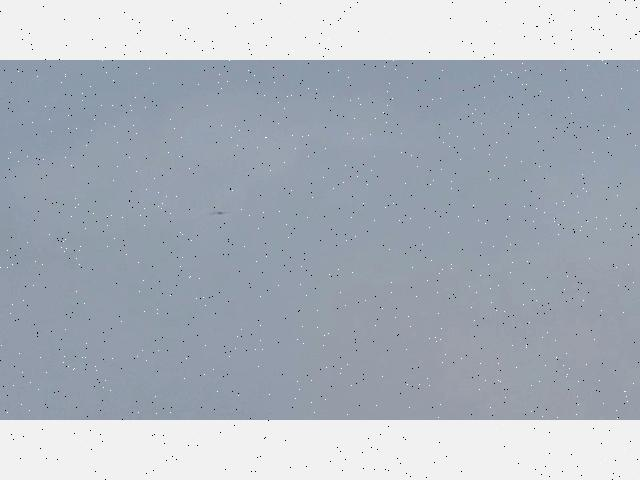Anti-Drone: (209, 209, 231, 219)
